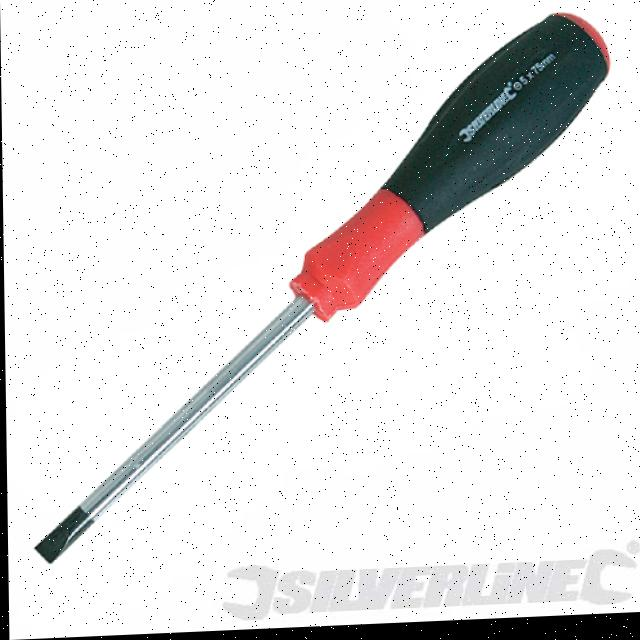Screwdriver: (34, 19, 609, 562)
